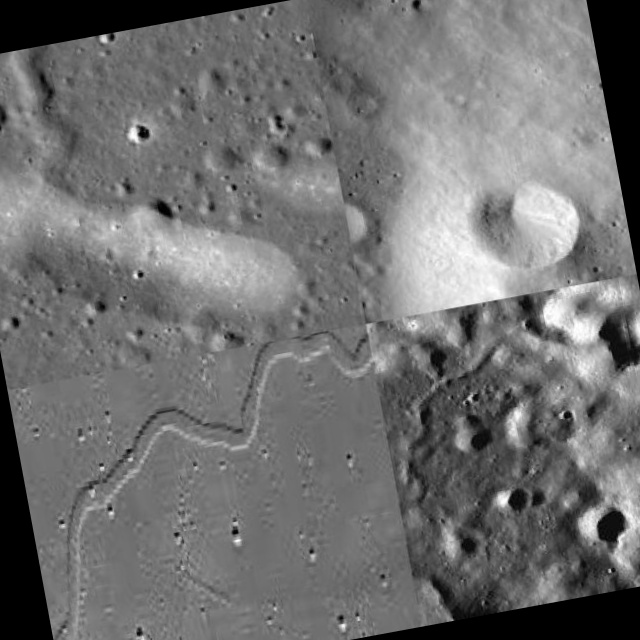crater: (0, 332, 363, 638), (364, 356, 564, 638), (61, 0, 156, 145)
